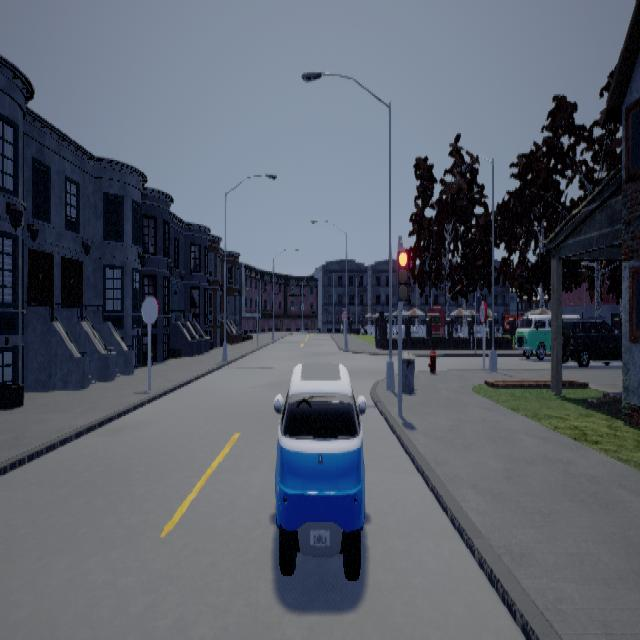red_light: (396, 239, 407, 310)
traffic_sign: (476, 300, 486, 322), (340, 308, 347, 320)
vehicle: (273, 360, 366, 580), (561, 314, 621, 366), (504, 313, 550, 359)
